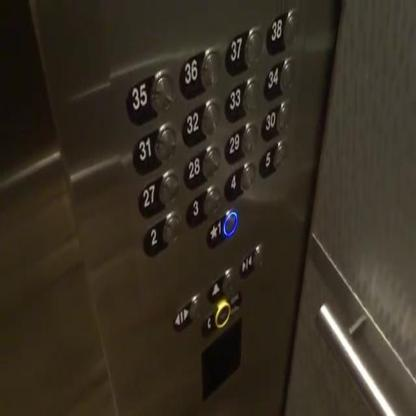2: (140, 208, 182, 259)
27: (136, 165, 180, 218)
28: (182, 140, 222, 191)
29: (222, 120, 258, 166)
3: (184, 179, 221, 227)
30: (260, 100, 294, 142)
31: (130, 123, 178, 176)
32: (180, 95, 222, 148)
33: (222, 74, 260, 124)
34: (262, 54, 296, 100)
35: (124, 66, 176, 125)
36: (178, 46, 222, 100)
37: (223, 22, 266, 77)
38: (266, 5, 300, 56)
4: (223, 158, 256, 203)
5: (257, 137, 287, 178)
alarm: (206, 264, 235, 304)
call: (201, 290, 241, 336)
close: (237, 240, 264, 279)
open: (170, 290, 200, 335)
s1: (204, 204, 238, 249)
